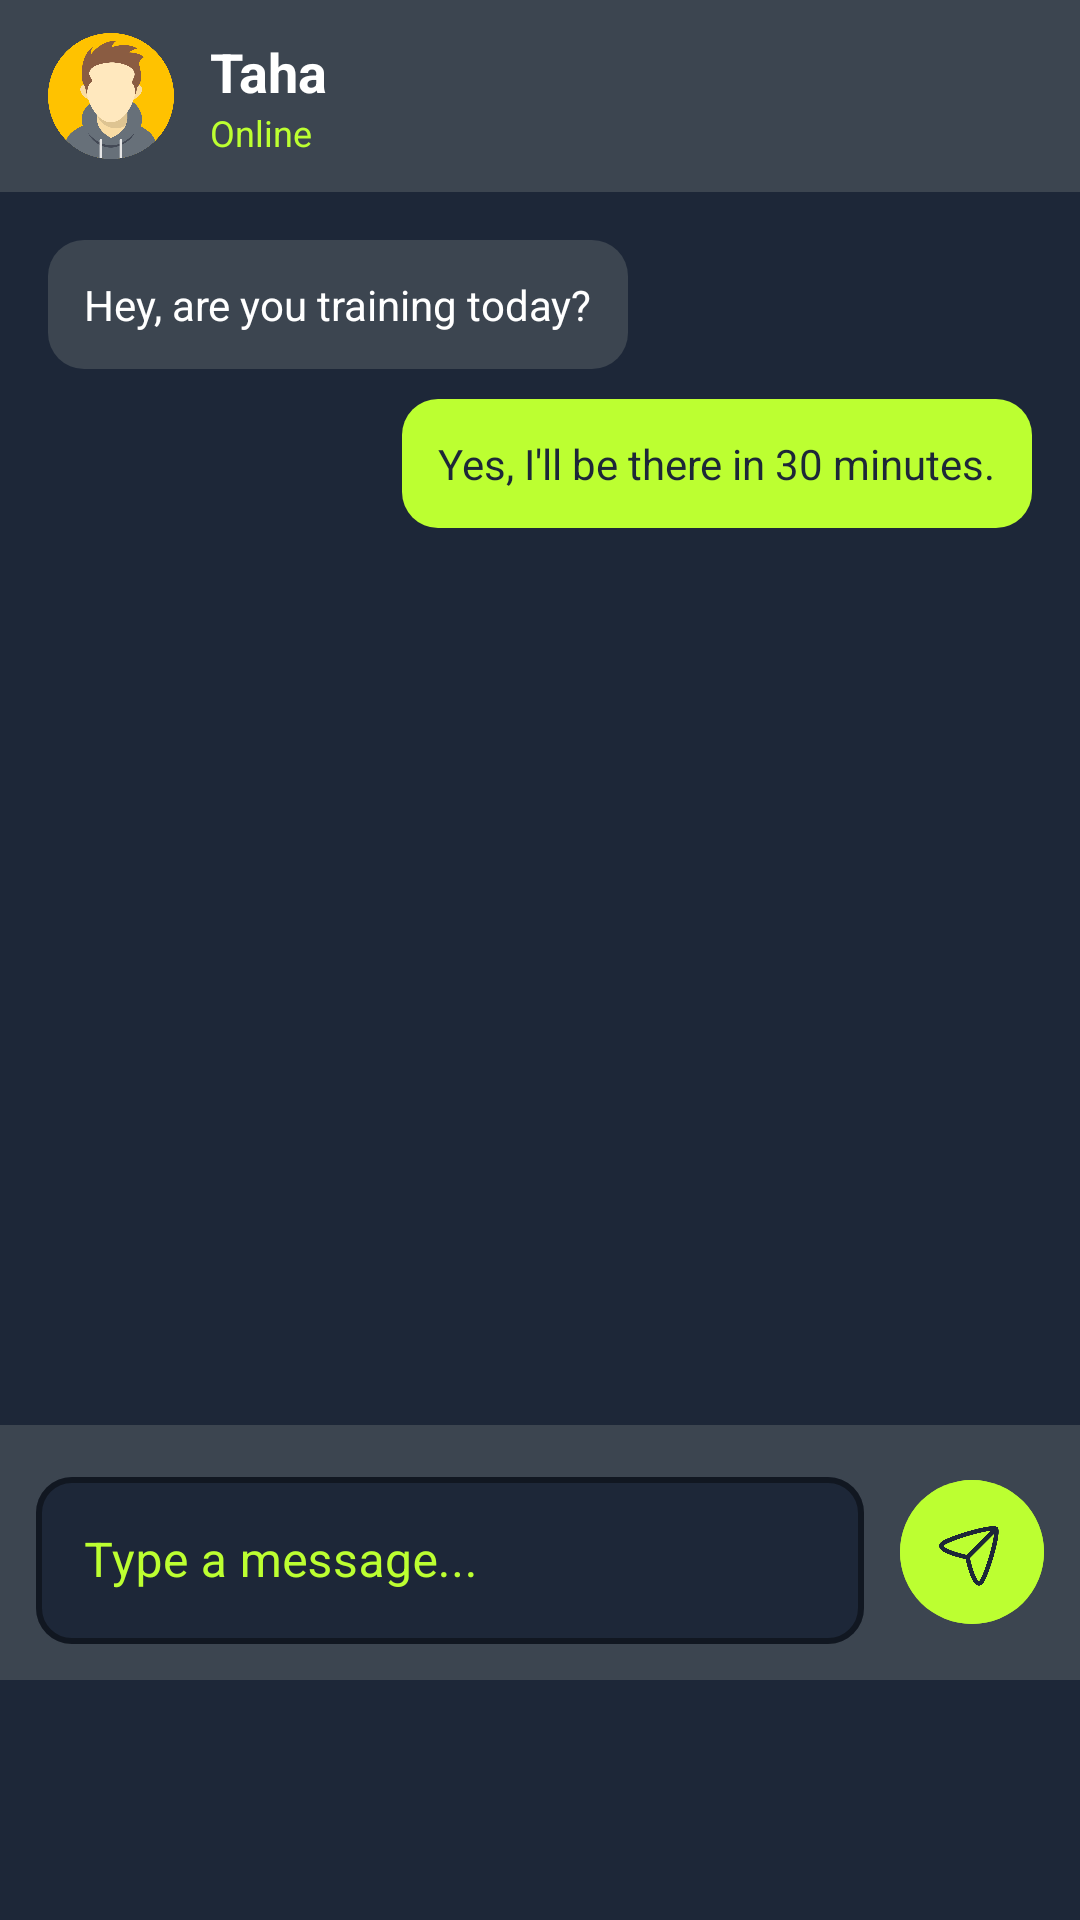

Where icons sit on this 1080 × 1920 app screen, as (x1, y1, x2, y2):
Chat user photo: (48, 33, 174, 159)
send: (900, 1480, 1044, 1624)
